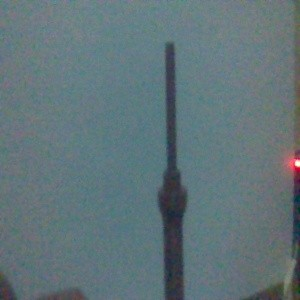obeng: (157, 40, 188, 300)
